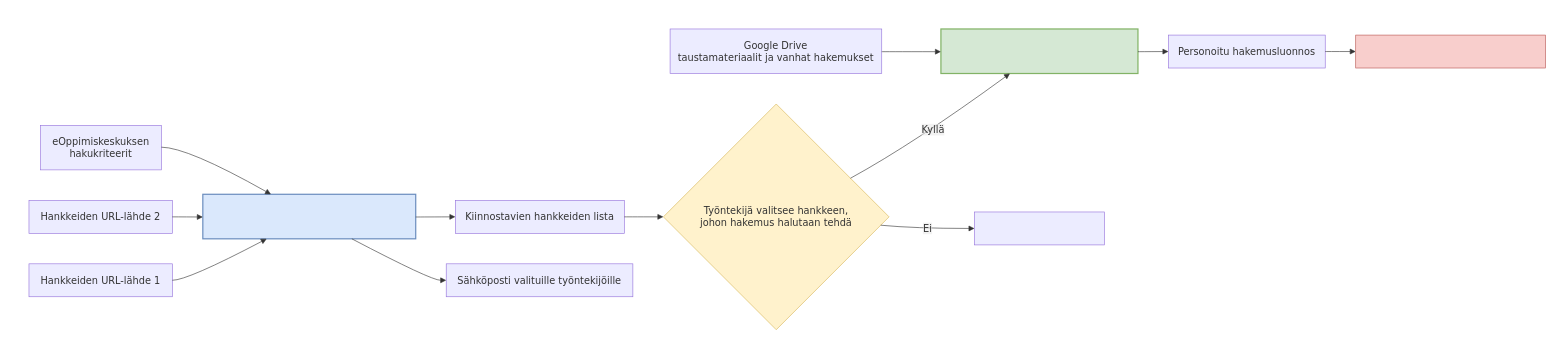
The diagram is 1556 pixels wide and 340 high, and some of its shapes have lost their labels. Each missing label, with the box of its shape:
AUTOMAATIO 1 Kiinnostavien hankkeiden tunnistaminen: (202, 193, 416, 239)
AUTOMAATIO 2 Hakemusluonnoksen muodostaminen: (940, 28, 1138, 74)
Ei jatkotoimenpiteitä: (974, 211, 1104, 245)
Työntekijän tarkistus ja viimeistely: (1355, 34, 1545, 68)
